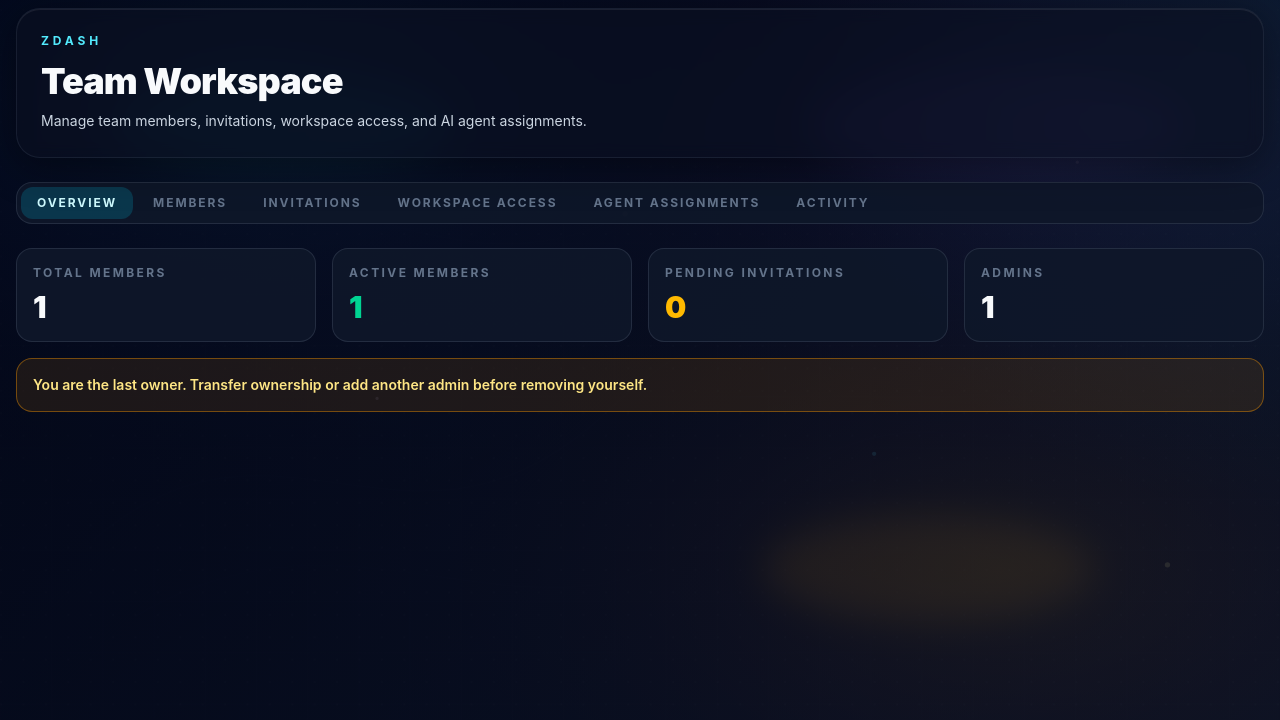
Test: TeamRoster › renders members table with search
This screenshot has width=1280, height=720.
What coordinates should you click on to do the following:
click the button "Members"
I would click on:
 (190, 203)
Its box is [137,187,243,219].
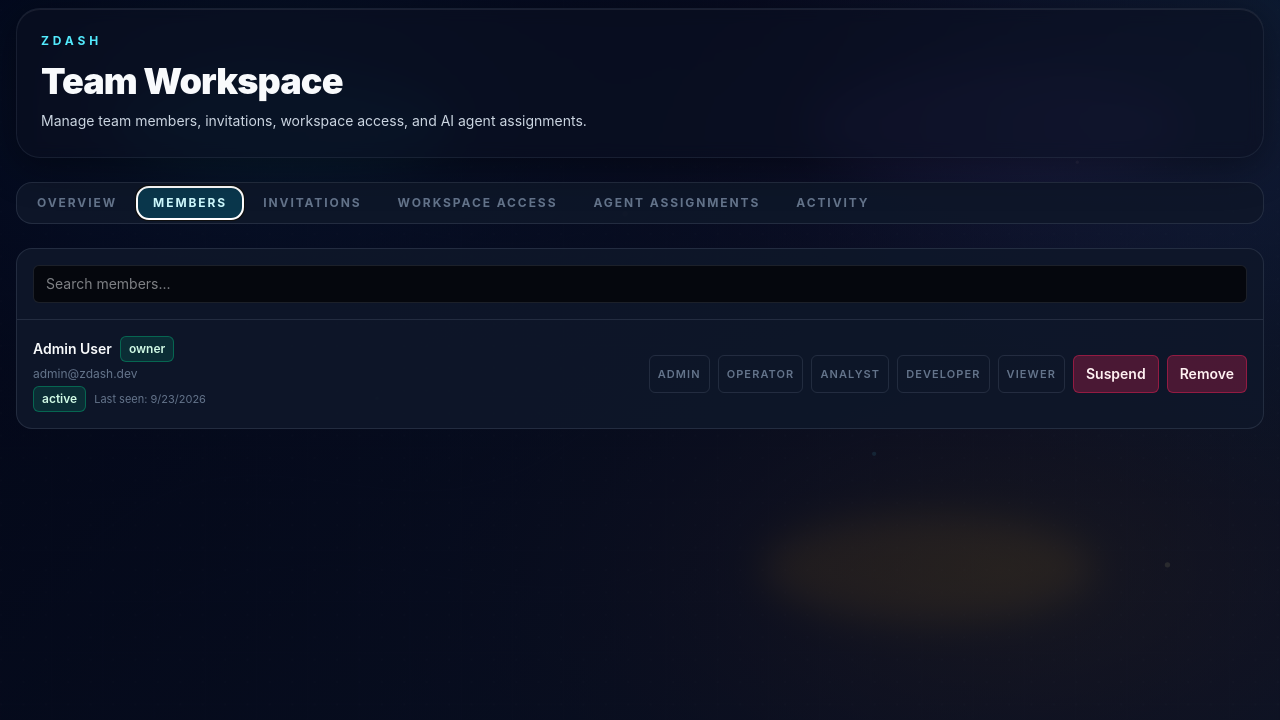
Now the text "Admin User" is shown, box [33,339,112,359]
